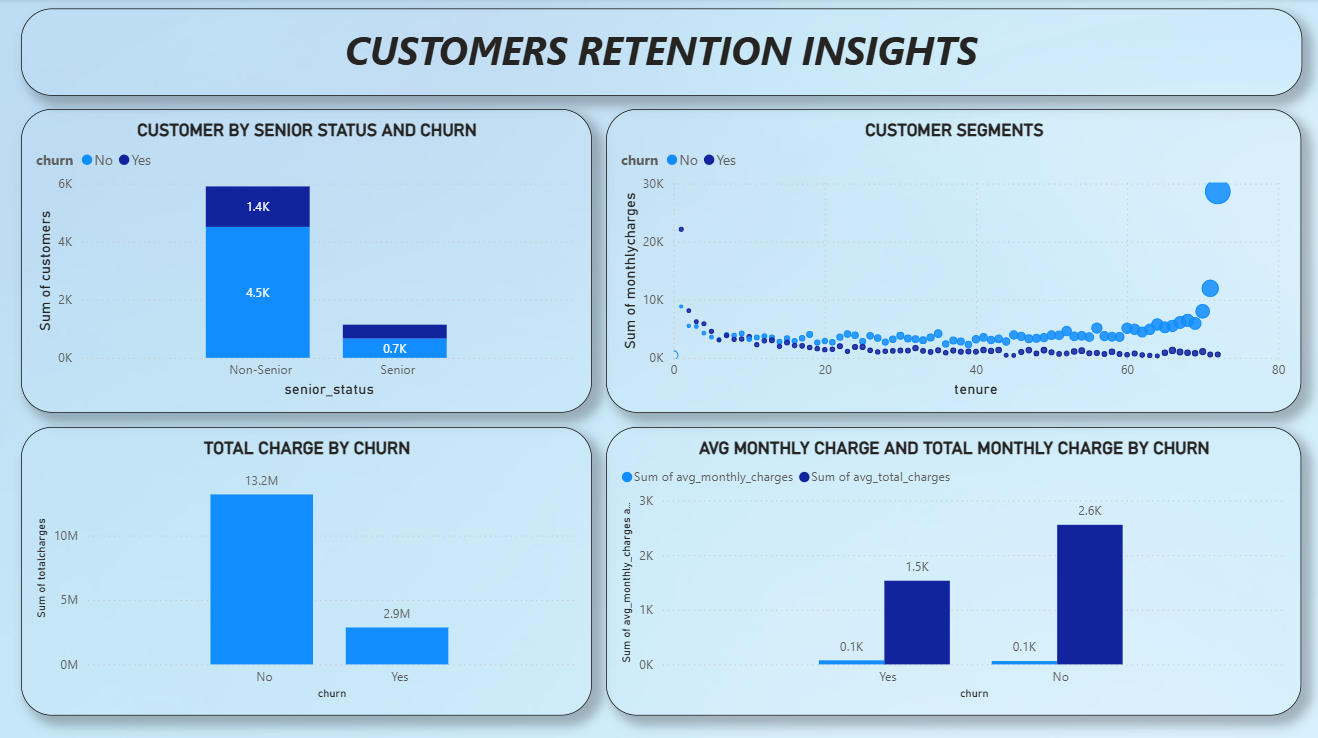

The dashboard page shown, as its layout file describes it:
{"tool":"powerbi","page":{"name":"Page 2","canvas":[1280,720],"ordinal":1},"visuals":[{"type":"scatterChart","title":"CUSTOMER SEGMENTS","fields":{"Series":["telco_table_newtelco.churn"],"Size":["Sum(telco_table_newtelco.totalcharges)"],"Y":["Sum(telco_table_newtelco.monthlycharges)"],"X":["telco_table_newtelco.tenure"]},"box":[587.7,107.7,674.7,294.8],"z":1000},{"type":"columnChart","title":"TOTAL CHARGE BY CHURN","fields":{"Y":["Sum(telco_table_newtelco.totalcharges)"],"Category":["telco_table_newtelco.churn"]},"box":[20.8,415.8,553.7,279.7],"z":2000},{"type":"clusteredColumnChart","title":"AVG MONTHLY CHARGE AND TOTAL MONTHLY CHARGE BY CHURN","fields":{"Y":["Sum(vw_avg_charges_by_churn.avg_monthly_charges)","Sum(vw_avg_charges_by_churn.avg_total_charges)"],"Category":["vw_avg_charges_by_churn.churn"]},"box":[587.7,415.8,674.7,279.7],"z":3000},{"type":"columnChart","title":"CUSTOMER BY SENIOR STATUS AND CHURN","fields":{"Category":["vw_churn_by_seniorcitizen.senior_status"],"Y":["Sum(vw_churn_by_seniorcitizen.customers)"],"Series":["vw_churn_by_seniorcitizen.churn"]},"box":[20.8,107.7,553.7,294.8],"z":4000},{"type":"textbox","box":[20.4,10.2,1243,84.4],"z":4001}]}

Visuals, with their boxes in screenshot pixels (x1, y1, x2, y2), scaled from the page's 1280x720 canvas onto the 1318x738 screenshot:
"CUSTOMER SEGMENTS" scatterChart: bbox(605, 110, 1300, 413)
"TOTAL CHARGE BY CHURN" columnChart: bbox(21, 426, 592, 713)
"AVG MONTHLY CHARGE AND TOTAL MONTHLY CHARGE BY CHURN" clusteredColumnChart: bbox(605, 426, 1300, 713)
"CUSTOMER BY SENIOR STATUS AND CHURN" columnChart: bbox(21, 110, 592, 413)
textbox: bbox(21, 10, 1301, 97)
